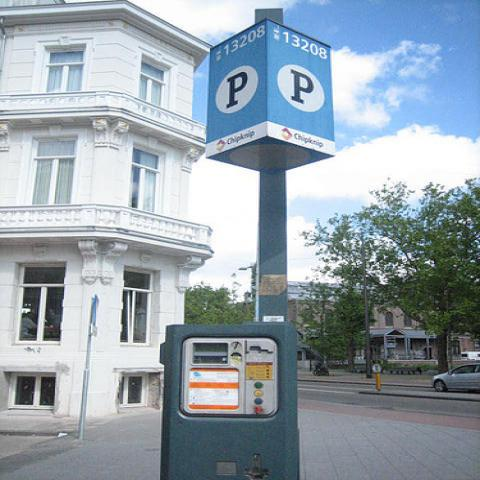car: (430, 364, 479, 392)
